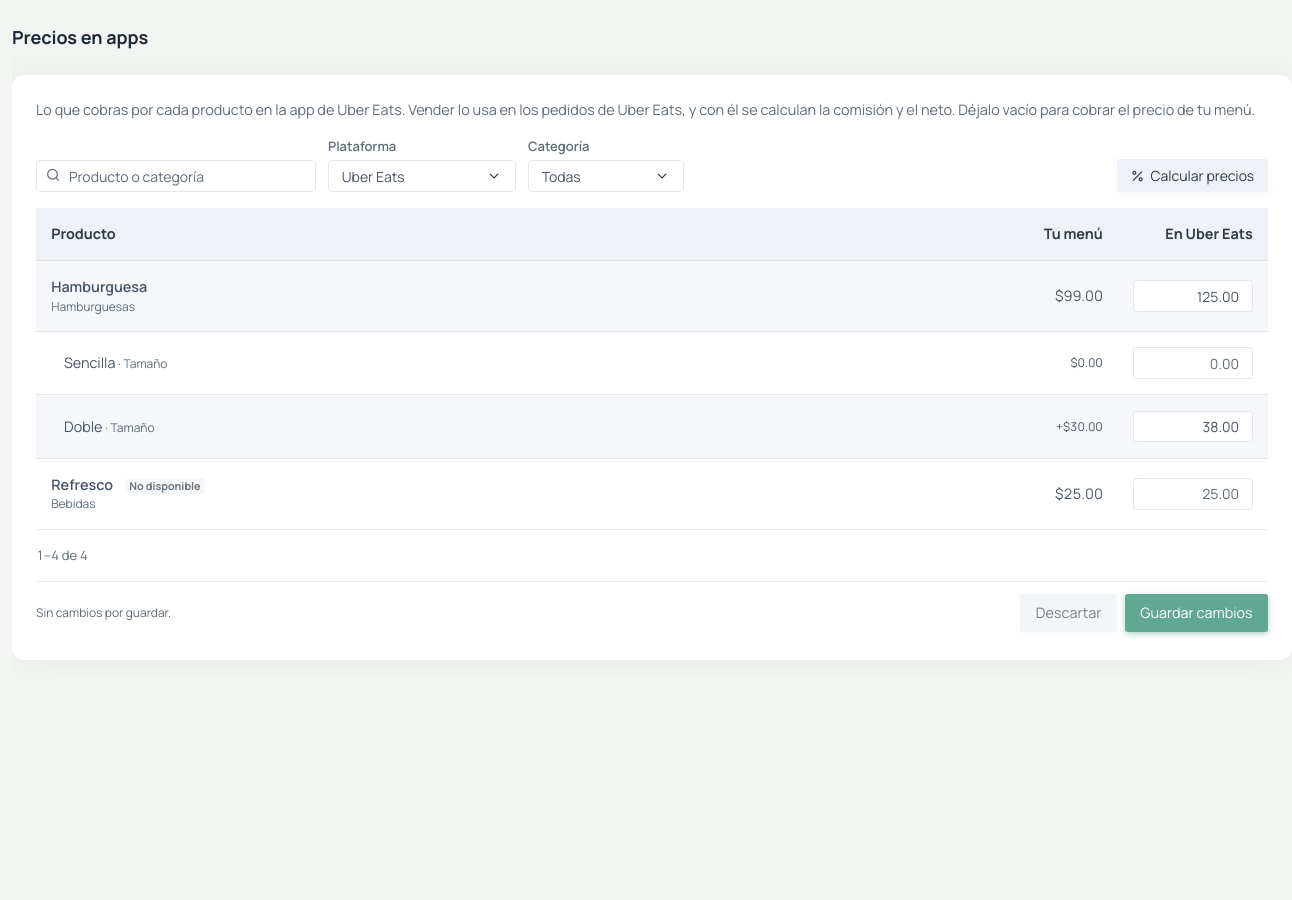
Scenario: PlatformPrices › keeps what was typed and says why when the API refuses the save
In the field named "Precio de Refresco en Uber Eats": x=1193, y=494 [1133,478,1253,510], type "32"
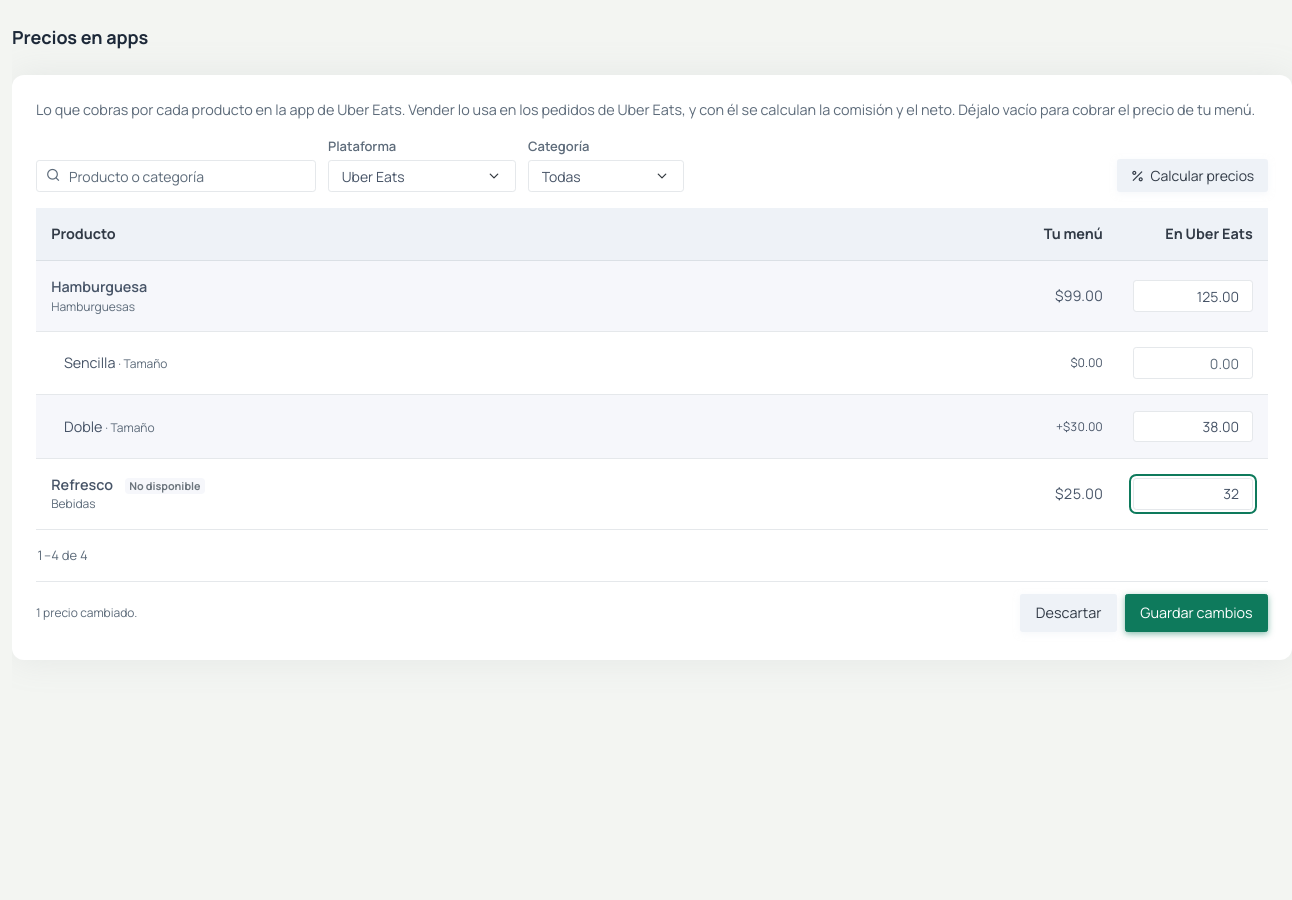
Click the button "Guardar cambios": x=1196, y=613 [1125,594,1268,632]
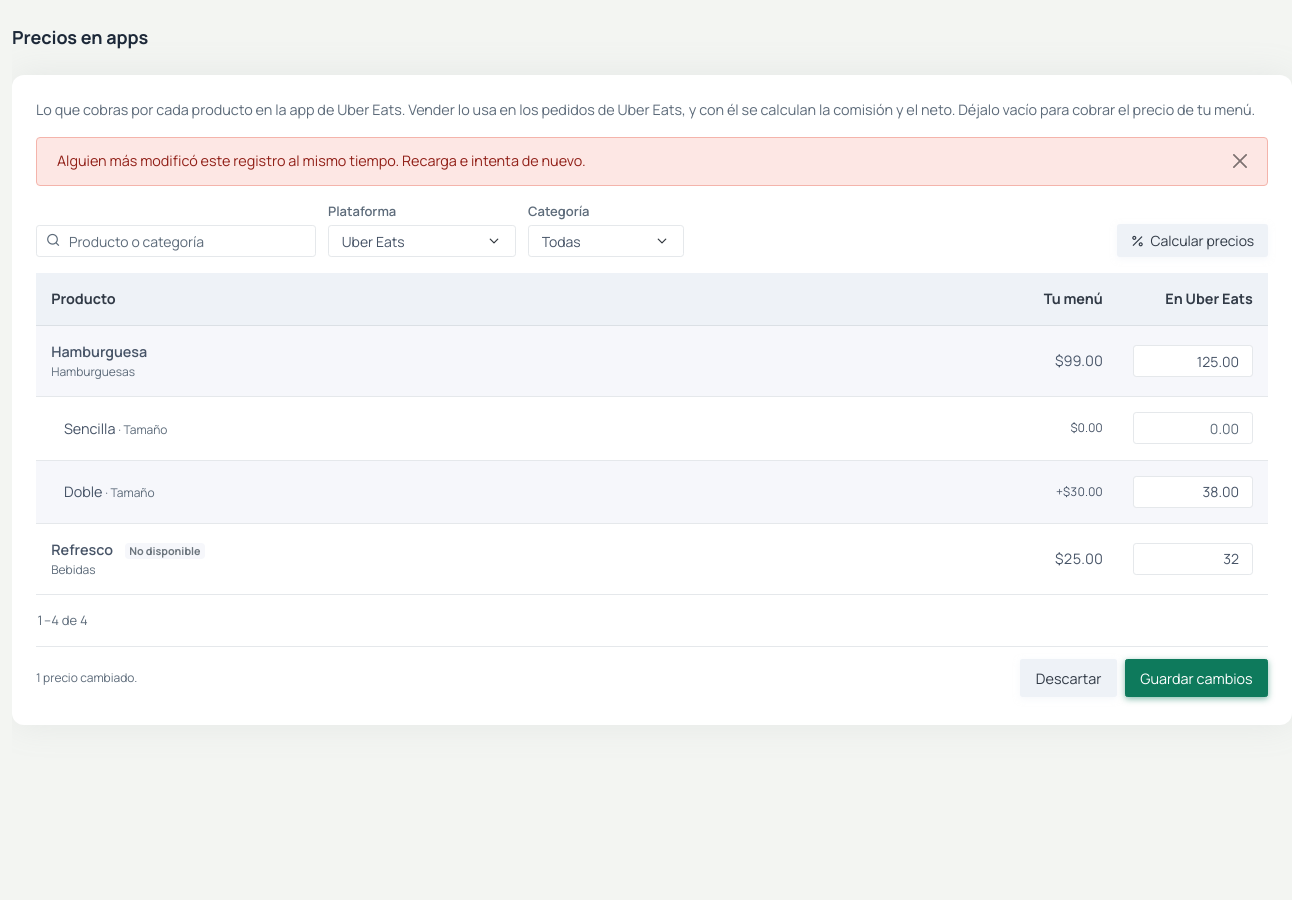
Now the text "Alguien más modificó este registro al mismo tiempo. Recarga e intenta de nuevo." is shown, box [36,137,1268,186]
